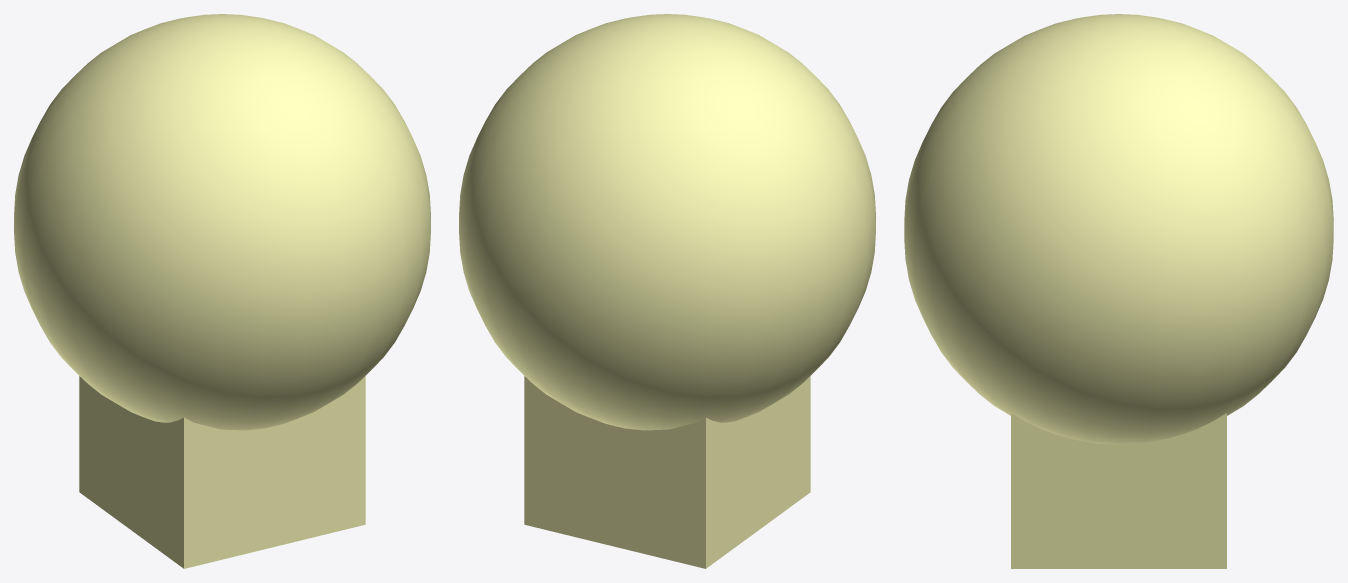
3 renders of one model, left to right at view 1: azimuth 30°, elevation 25°; view 2: azimuth 150°, elevation 25°; view 3: azimuth 270°, elevation 25°, orthographic. The views are drawn at different scales.
Visible parts, largest first — view 1: Sphere, Mesh; view 2: Sphere, Mesh; view 3: Sphere, Mesh.
Part boxes in pixels (box(x1,y1,x2,y2)): Sphere: box(14, 14, 430, 430); Mesh: box(79, 376, 365, 568); Sphere: box(459, 14, 875, 430); Mesh: box(524, 376, 810, 568); Sphere: box(904, 14, 1333, 444); Mesh: box(1011, 413, 1226, 568).
Size of what is drawn, in the model's own units: 2 by 2.5 by 1.99.
